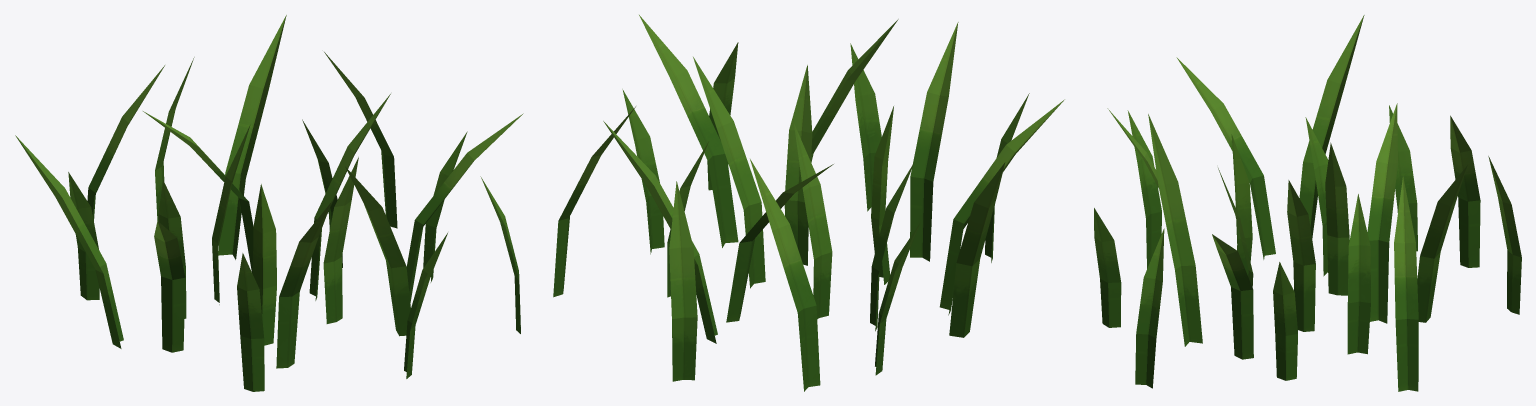
The model's file is GrassMedium2.fbx.
The picture shows the model from 3 angles, left to right: view 1: azimuth 30°, elevation 25°; view 2: azimuth 150°, elevation 25°; view 3: azimuth 270°, elevation 25°; orthographic projection. The views are drawn at different scales.
Parts seen in each view (by area): view 1: GrassMedium2; view 2: GrassMedium2; view 3: GrassMedium2.
Part boxes in pixels (x1,y1,x2,y2): GrassMedium2: (15,15,523,391); GrassMedium2: (553,15,1064,391); GrassMedium2: (1094,15,1521,391).
Size of the model in its own units: 0.9629 by 0.4406 by 0.8826.
Materials: 1 (1 with a texture image).
